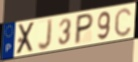3: (58, 17, 73, 47)
9: (97, 10, 111, 41)
C: (114, 6, 133, 38)
J: (37, 19, 54, 52)
P: (73, 12, 95, 46)
X: (15, 21, 36, 56)
